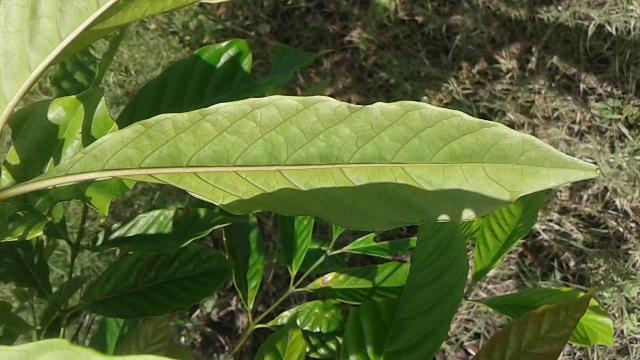healthy: (6, 88, 610, 240)
